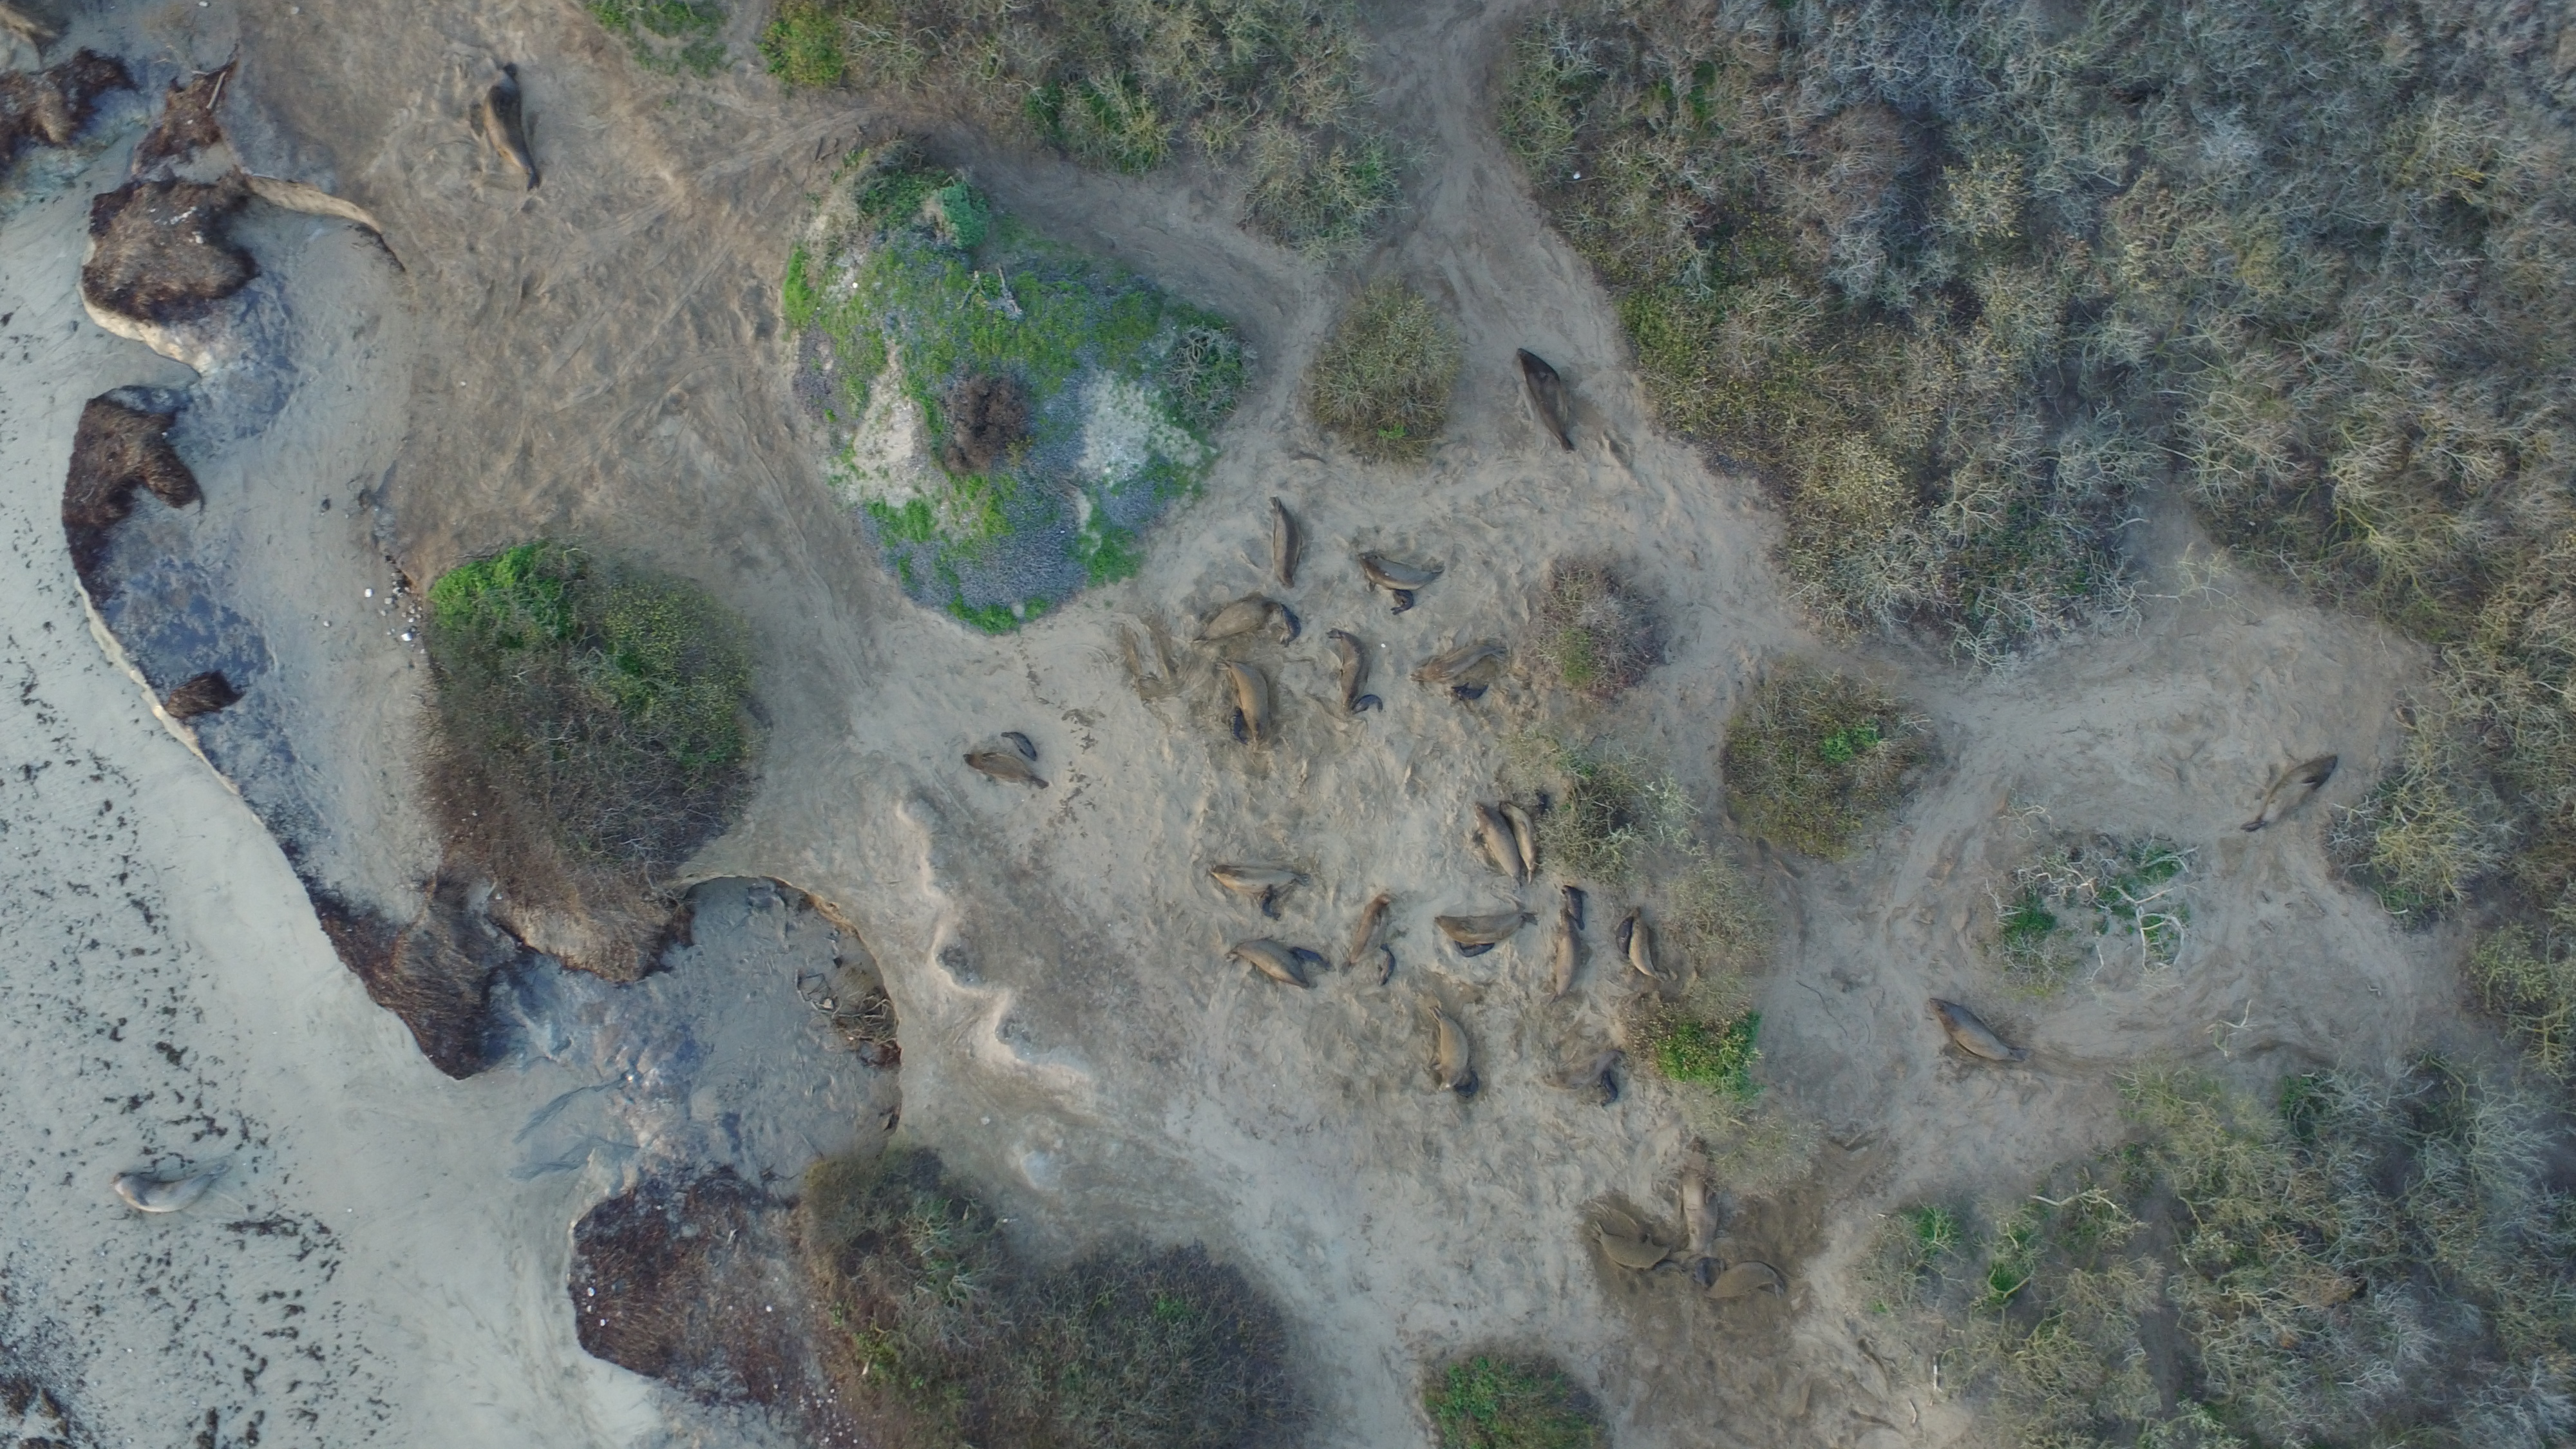adult male: (471, 58, 556, 193)
male juvenile / female juvenile / adult female: (2233, 750, 2346, 839), (1506, 345, 1587, 460), (1920, 993, 2029, 1069), (103, 1161, 239, 1221), (1667, 1159, 1725, 1267), (1214, 656, 1277, 748), (1465, 801, 1532, 888), (1254, 490, 1309, 593), (1585, 1223, 1674, 1281), (1318, 628, 1373, 722), (1221, 939, 1315, 994), (1490, 798, 1550, 879), (1403, 642, 1513, 686), (1700, 1258, 1799, 1306), (1355, 550, 1449, 596), (1539, 1047, 1629, 1095), (1424, 1007, 1470, 1097), (1185, 596, 1272, 644), (959, 750, 1054, 793), (1428, 909, 1539, 945), (1346, 892, 1394, 970), (1203, 865, 1315, 897), (1626, 911, 1672, 987), (1552, 906, 1583, 1001)
pup: (994, 727, 1047, 770), (1281, 943, 1341, 980), (1583, 1067, 1629, 1113), (1366, 941, 1407, 993), (1269, 603, 1309, 649), (1555, 883, 1594, 931), (1677, 1258, 1716, 1304), (1451, 1069, 1491, 1109), (1610, 915, 1642, 964), (1221, 708, 1256, 750), (1380, 586, 1422, 621), (1449, 936, 1504, 961), (1444, 679, 1490, 708), (1346, 692, 1389, 720), (1253, 888, 1288, 922)
